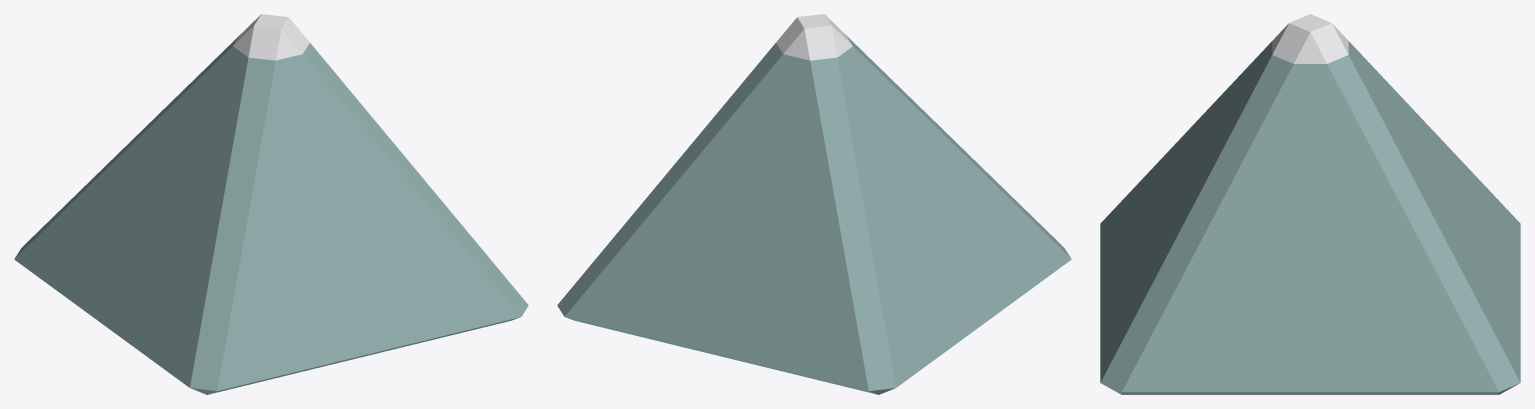
The model's file is Roof_Point_Green_01.glb.
3 views of the same model, side by side, from view 1: azimuth 30°, elevation 25°; view 2: azimuth 150°, elevation 25°; view 3: azimuth 270°, elevation 25° (orthographic). The views are drawn at different scales.
Parts seen in each view (by area): view 1: Roof_Point_Green_01; view 2: Roof_Point_Green_01; view 3: Roof_Point_Green_01.
Part boxes in pixels (left/top/right/bottom): Roof_Point_Green_01: left=14, top=14, right=528, bottom=394; Roof_Point_Green_01: left=557, top=14, right=1071, bottom=394; Roof_Point_Green_01: left=1100, top=14, right=1520, bottom=394.
Size of the model in its own units: 3.34 by 2.56 by 3.34.
